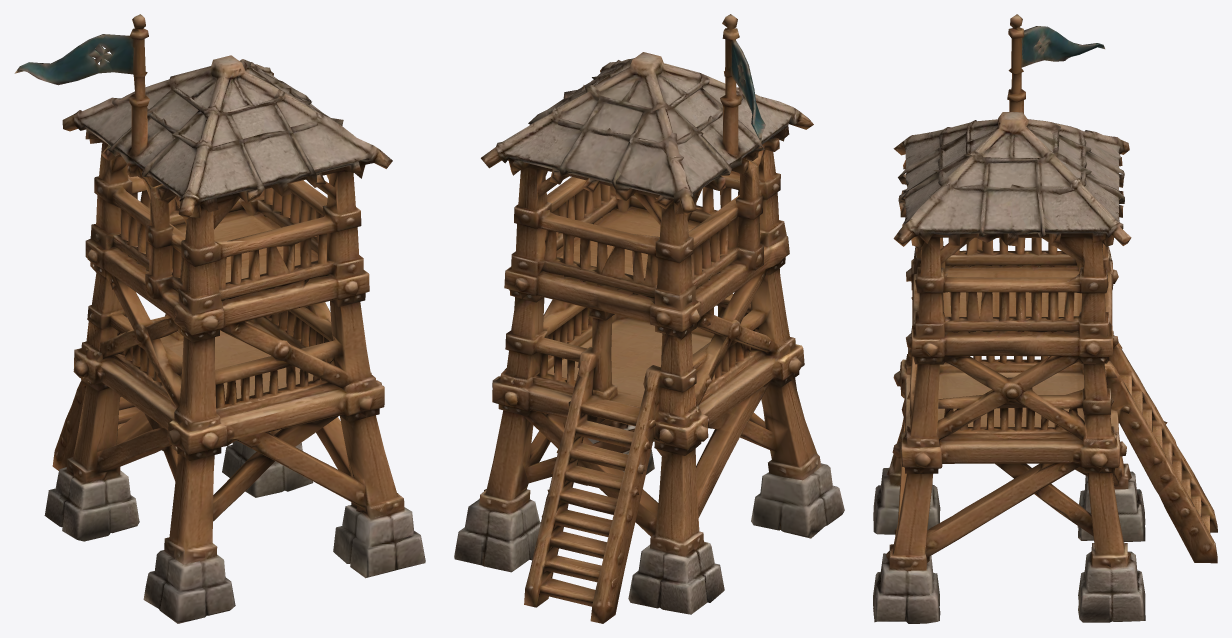
Rendered from gozcu-sv5.glb.
3 renders of one model, left to right at view 1: azimuth 30°, elevation 25°; view 2: azimuth 150°, elevation 25°; view 3: azimuth 270°, elevation 25°, orthographic. The views are drawn at different scales.
Visible parts, largest first — view 1: tripo_node_769df99a-240f-4de5-8e9e-2269ed4e98a4; view 2: tripo_node_769df99a-240f-4de5-8e9e-2269ed4e98a4; view 3: tripo_node_769df99a-240f-4de5-8e9e-2269ed4e98a4.
Part boxes in pixels (x1=…): tripo_node_769df99a-240f-4de5-8e9e-2269ed4e98a4: x1=14, y1=14, x2=425, y2=623; tripo_node_769df99a-240f-4de5-8e9e-2269ed4e98a4: x1=454, y1=14, x2=844, y2=623; tripo_node_769df99a-240f-4de5-8e9e-2269ed4e98a4: x1=873, y1=14, x2=1217, y2=623.
Bounding box in the file's own units: 0.5574 × 1 × 0.6118.
1 material, 1 textured.
